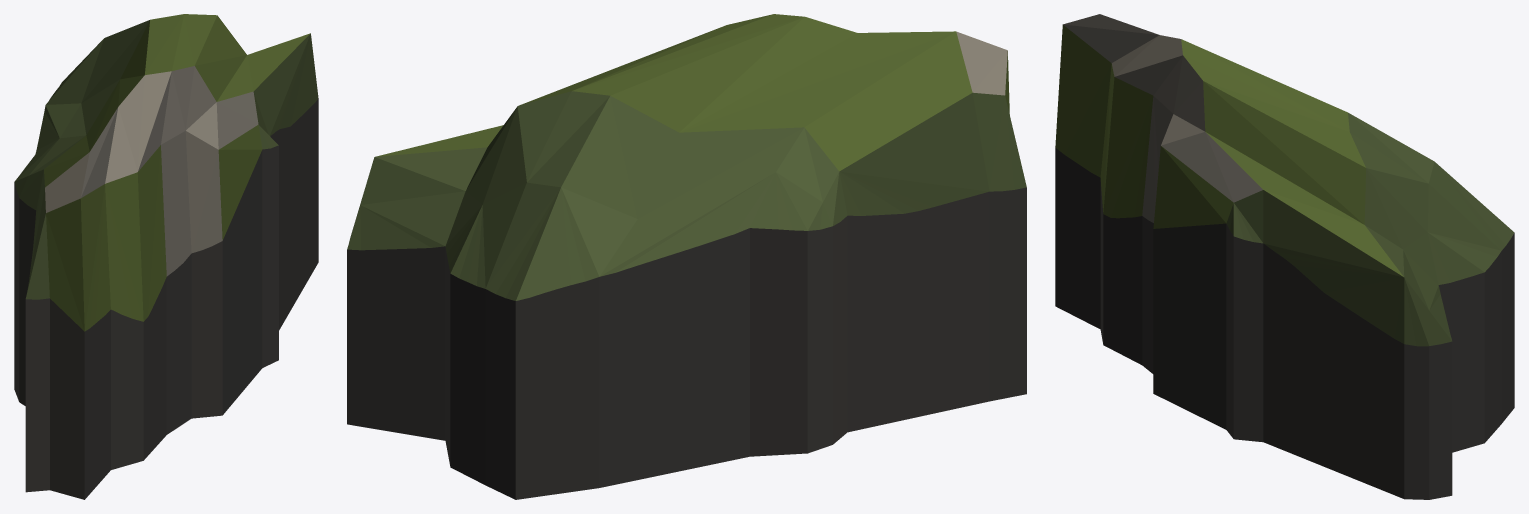
The model's file is cliff_sections_10d_crown.glb.
3 renders of one model, left to right at view 1: azimuth 30°, elevation 25°; view 2: azimuth 150°, elevation 25°; view 3: azimuth 270°, elevation 25°, orthographic. The views are drawn at different scales.
Visible parts, largest first — view 1: Front columns study; view 2: Front columns study; view 3: Front columns study.
Part boxes in pixels (box(x1,y1,x2,y2)): Front columns study: box(14, 14, 318, 499); Front columns study: box(347, 14, 1026, 499); Front columns study: box(1055, 14, 1514, 499).
Bounding box in the file's own units: 134 × 97 × 124.
